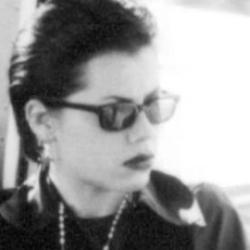face: (6, 2, 177, 206)
